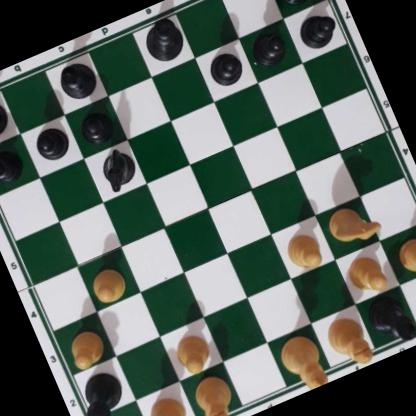black-bishop: (360, 286, 416, 354), (51, 57, 103, 107)
black-king: (135, 11, 190, 68)
black-knight: (94, 144, 139, 193)
black-pawn: (293, 6, 340, 54), (204, 46, 247, 90), (74, 103, 116, 147), (248, 26, 290, 69), (30, 122, 71, 165), (0, 143, 26, 186)
black-queen: (70, 365, 135, 416)
black-rook: (0, 89, 12, 147), (268, 0, 325, 7)
white-bishop: (321, 311, 377, 375), (188, 370, 244, 416)
white-king: (274, 330, 331, 397)
white-knight: (320, 195, 384, 252)
white-pawn: (340, 248, 391, 300), (168, 327, 217, 377), (83, 260, 133, 308), (62, 325, 109, 373), (280, 227, 326, 275), (393, 231, 416, 279)
white-rook: (139, 391, 198, 416)
